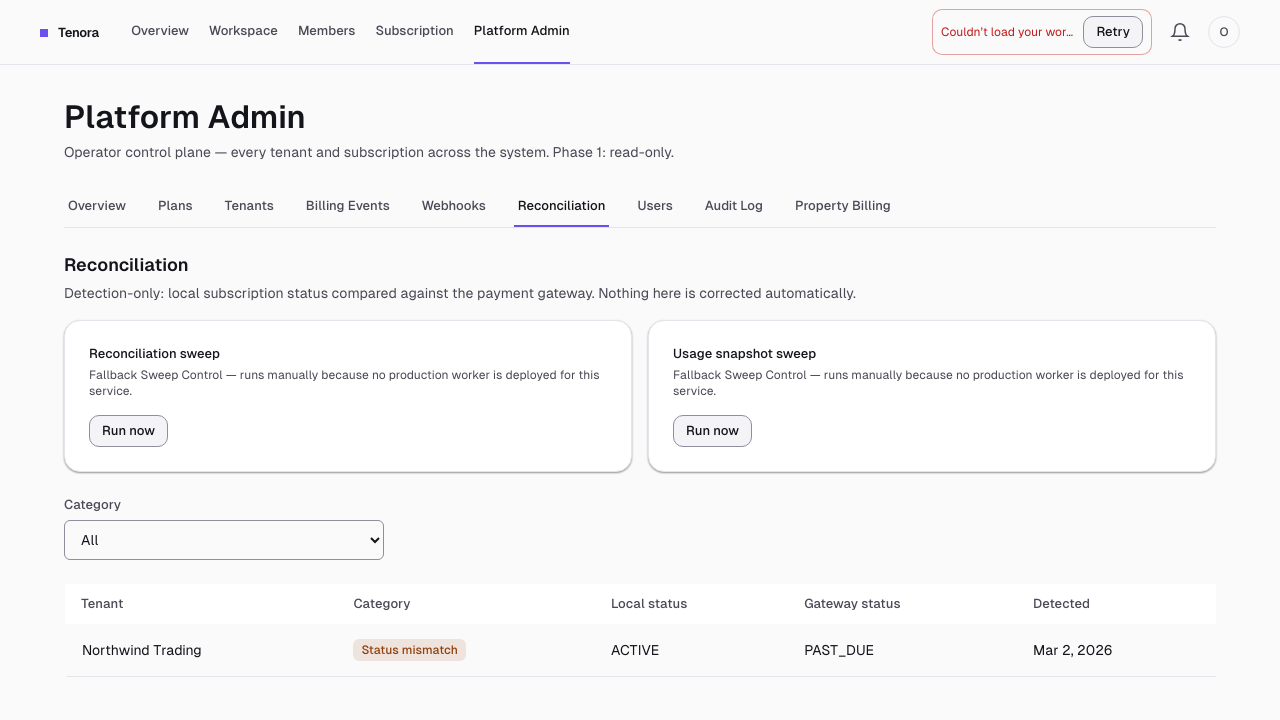
Test case: ReconciliationPage — fallback sweep controls (Phase 2) › makes no request until confirmed, for either sweep
The image size is (1280, 720).
Expected: the text "Reconciliation sweep" is shown, [89,346,220,361]
Click the button "Run now" below "Reconciliation sweep". click: (128, 431)
box: [89,415,168,447]
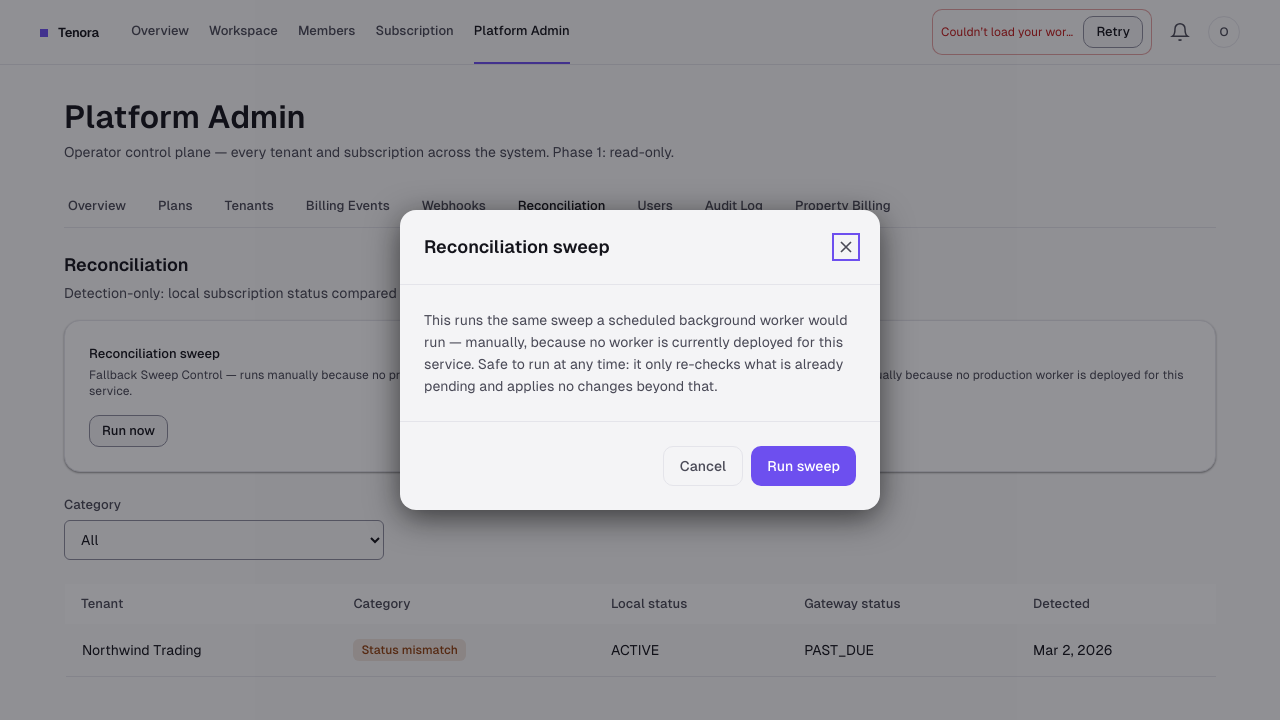
Expected: the dialog "Reconciliation sweep" is shown, [400,210,880,510]
